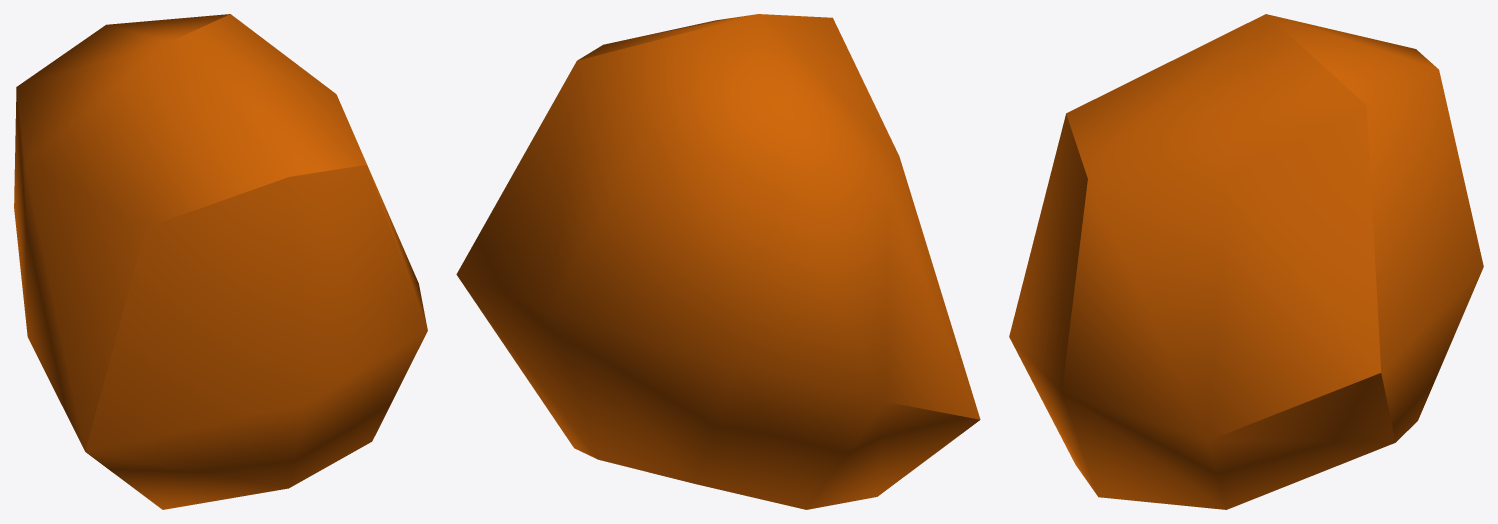
File: SRA_Metal_Copper_Ore_01.glb
The picture shows the model from 3 angles, left to right: view 1: azimuth 30°, elevation 25°; view 2: azimuth 150°, elevation 25°; view 3: azimuth 270°, elevation 25°; orthographic projection. The views are drawn at different scales.
Parts seen in each view (by area): view 1: Metal_Copper_Ore_01; view 2: Metal_Copper_Ore_01; view 3: Metal_Copper_Ore_01.
Boxes of the visible parts, box(x1,y1,x2,y2) form: Metal_Copper_Ore_01: box(14, 14, 427, 509); Metal_Copper_Ore_01: box(456, 14, 980, 509); Metal_Copper_Ore_01: box(1009, 14, 1483, 509).
Size of the model in its own units: 0.2245 by 0.2533 by 0.2334.
Materials: 1 (1 with a texture image).
